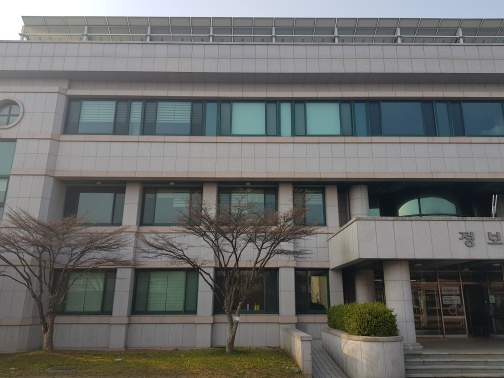Information Telecommunication Center: (8, 20, 498, 342), (343, 266, 502, 348), (411, 269, 501, 347), (403, 215, 504, 258)
